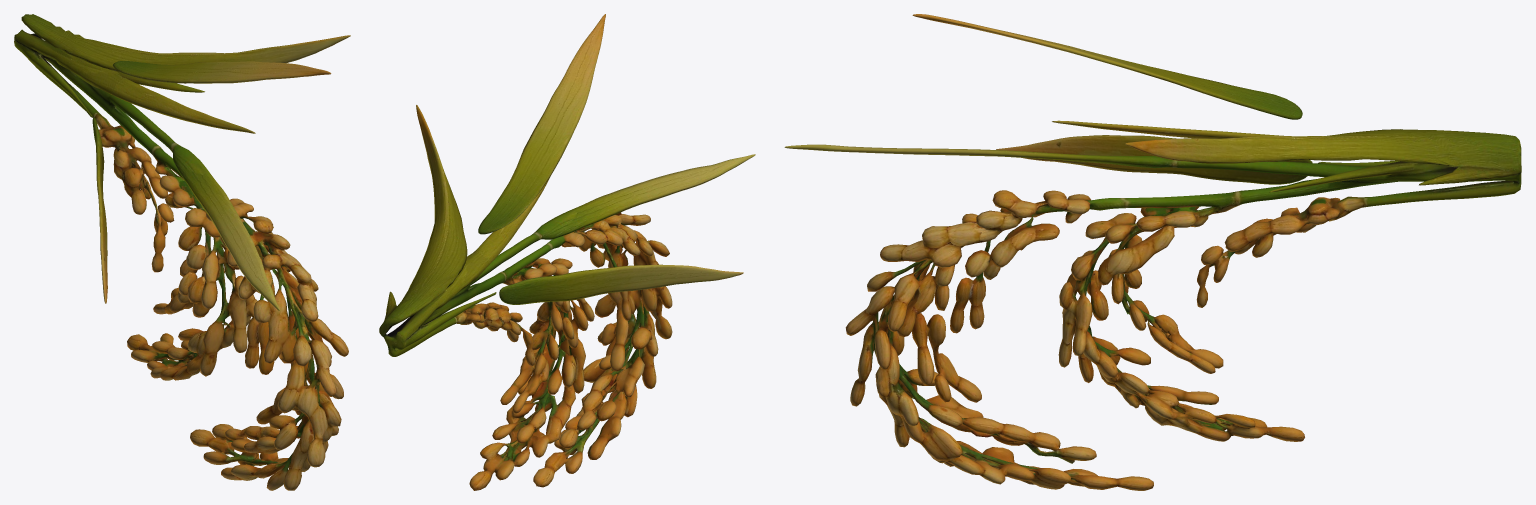
The model's file is tripo_convert_e9f70763-82ba-40f3-9497-2cd79643c46a.fbx.
3 views of the same model, side by side, from view 1: azimuth 30°, elevation 25°; view 2: azimuth 150°, elevation 25°; view 3: azimuth 270°, elevation 25° (orthographic). The views are drawn at different scales.
Visible parts, largest first — view 1: tripo_node_e9f70763; view 2: tripo_node_e9f70763; view 3: tripo_node_e9f70763.
Boxes of the visible parts, bbox=[...] form: tripo_node_e9f70763: bbox=[14, 14, 350, 490]; tripo_node_e9f70763: bbox=[379, 14, 755, 490]; tripo_node_e9f70763: bbox=[784, 14, 1521, 490].
Bounding box in the file's own units: 0.5338 × 0.736 × 0.9961.
Materials: 1 (1 with a texture image).
